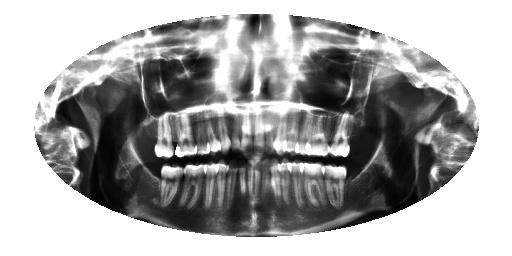i10decay: (238, 164, 247, 203)
i11decay: (227, 162, 237, 209)
i12healthy: (216, 159, 228, 209)
i13healthy: (204, 161, 218, 209)
i14healthy: (181, 159, 206, 210)
i15healthy: (159, 162, 185, 210)
i16loss: (140, 165, 161, 206)
i1loss: (347, 162, 361, 207)
i2healthy: (324, 164, 348, 211)
i3healthy: (306, 161, 327, 212)
i4healthy: (290, 157, 304, 210)
i5healthy: (279, 157, 294, 207)
i6decay: (270, 160, 281, 208)
i7decay: (262, 160, 271, 206)
i8decay: (254, 165, 261, 205)
i9decay: (248, 165, 254, 206)
u10decay: (231, 108, 241, 155)
u11decay: (221, 110, 232, 153)
u12healthy: (209, 112, 220, 153)
u13healthy: (195, 108, 209, 155)
u14healthy: (175, 114, 196, 158)
u15healthy: (155, 110, 174, 160)
u16loss: (140, 120, 157, 161)
u1loss: (351, 116, 366, 158)
u2healthy: (330, 116, 352, 158)
u3healthy: (306, 116, 329, 155)
u4healthy: (296, 115, 312, 156)
u5healthy: (284, 116, 299, 153)
u6healthy: (275, 115, 287, 153)
u7decay: (265, 115, 275, 157)
u8decay: (254, 107, 265, 157)
u9decay: (241, 108, 254, 156)
